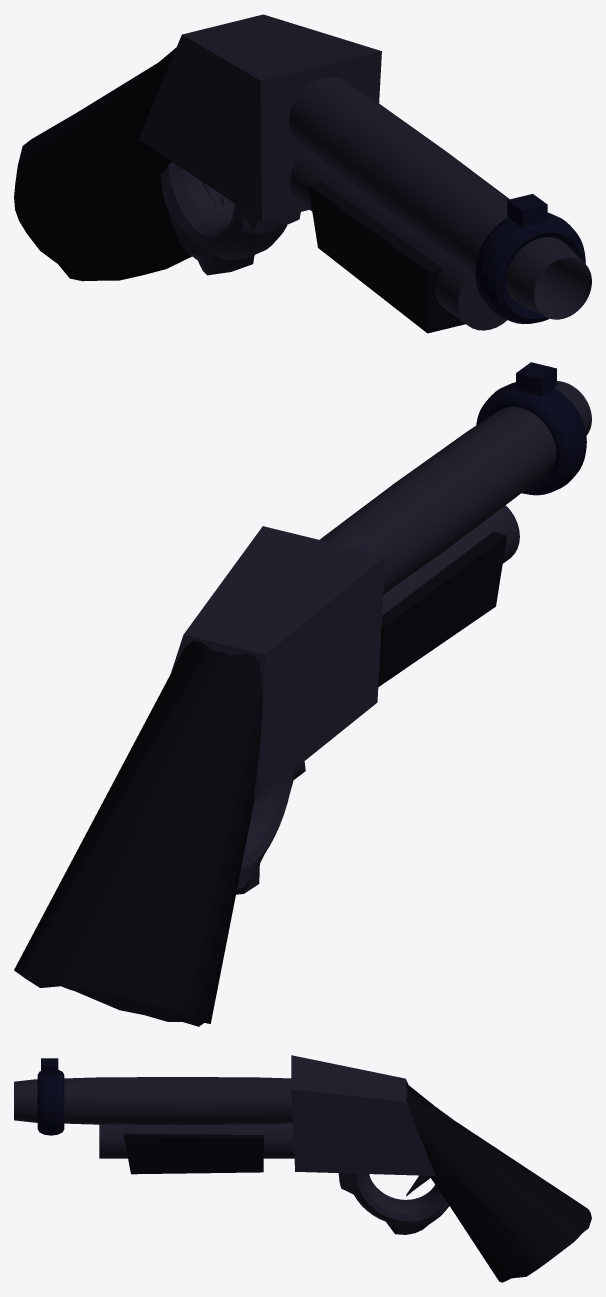
File: Handmade_Shotgun.obj
3 views of the same model, one above another, from view 1: azimuth 30°, elevation 25°; view 2: azimuth 150°, elevation 25°; view 3: azimuth 270°, elevation 25° (orthographic). The views are drawn at different scales.
Visible parts, largest first — view 1: Cube.002_Cube, Torus, Cylinder.002, Cube_Cube.002, Torus.002, Cylinder, Torus.001, Cube.001; view 2: Cylinder.002, Cube.002_Cube, Torus, Cube_Cube.002, Torus.001, Torus.002, Cylinder, Cube.001; view 3: Cylinder.002, Cube.002_Cube, Torus, Cube_Cube.002, Cylinder, Torus.002, Torus.001, Cube.001.
Boxes of the visible parts, x1,y1,x2,y2 form: Cube.002_Cube: (138, 14, 381, 221); Torus: (289, 77, 591, 319); Cylinder.002: (14, 47, 191, 281); Cube_Cube.002: (308, 182, 465, 333); Torus.002: (160, 162, 300, 275); Cylinder: (290, 149, 507, 330); Torus.001: (475, 212, 585, 323); Cube.001: (507, 194, 547, 227); Cylinder.002: (14, 641, 262, 1026); Cube.002_Cube: (171, 526, 385, 798); Torus: (320, 381, 591, 594); Cube_Cube.002: (378, 532, 506, 686); Torus.001: (476, 382, 586, 495); Torus.002: (236, 761, 305, 894); Cylinder: (382, 505, 519, 615); Cube.001: (516, 362, 556, 396); Cylinder.002: (406, 1084, 591, 1282); Cube.002_Cube: (291, 1055, 435, 1175); Torus: (14, 1077, 292, 1125); Cube_Cube.002: (124, 1133, 263, 1174); Cylinder: (99, 1123, 294, 1158); Torus.002: (338, 1173, 449, 1234); Torus.001: (37, 1070, 64, 1135); Cube.001: (41, 1058, 58, 1075).
Size of the model in its own units: 1.07 by 2.12 by 5.37.
